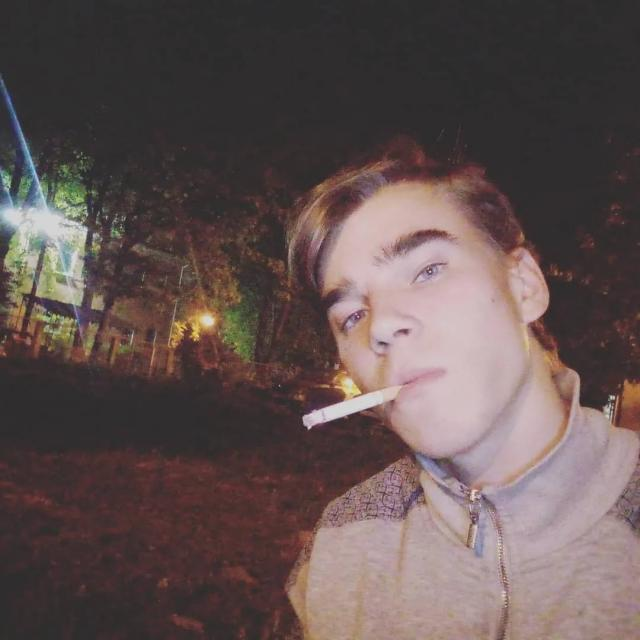cigarette: (297, 381, 406, 433)
